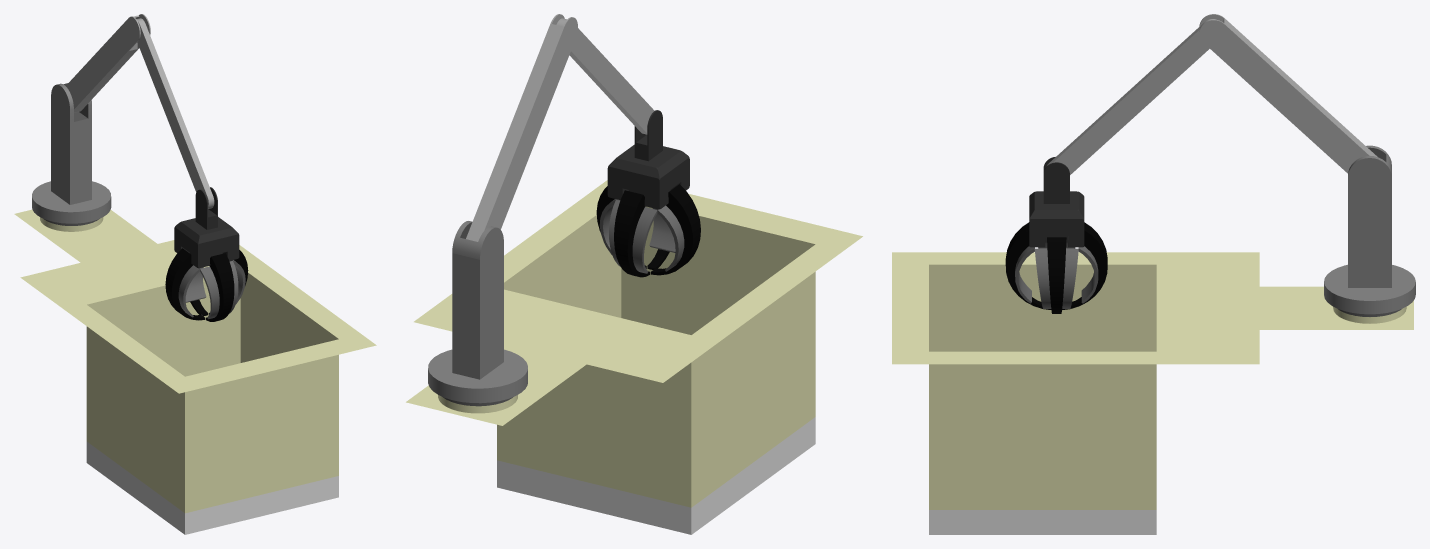
The model's file is excavator.glb.
The picture shows the model from 3 angles, left to right: view 1: azimuth 30°, elevation 25°; view 2: azimuth 150°, elevation 25°; view 3: azimuth 270°, elevation 25°; orthographic projection. The views are drawn at different scales.
Visible parts, largest first — view 1: base, rotating-platform, jaws, arm-rotating-platform, arm-jaws, jaw-2, jaw-4, jaw-3, jaw-1; view 2: base, rotating-platform, arm-rotating-platform, jaws, jaw-3, arm-jaws, jaw-4, jaw-2, jaw-1, rotating-platform-base; view 3: base, rotating-platform, arm-rotating-platform, arm-jaws, jaws, jaw-1, jaw-2, jaw-3.
Boxes of the visible parts, box(x1,y1,x2,y2) form: base: box(14, 209, 376, 534); rotating-platform: box(32, 83, 111, 225); jaws: box(174, 187, 239, 268); arm-rotating-platform: box(66, 14, 150, 112); arm-jaws: box(136, 18, 214, 208); jaw-2: box(200, 253, 238, 321); jaw-4: box(165, 248, 204, 320); jaw-3: box(185, 267, 207, 316); jaw-1: box(208, 250, 248, 314); base: box(406, 180, 862, 534); rotating-platform: box(428, 221, 527, 406); arm-rotating-platform: box(466, 14, 577, 241); jaws: box(607, 110, 689, 209); jaw-3: box(609, 190, 657, 277); arm-jaws: box(556, 18, 654, 134); jaw-4: box(651, 184, 700, 275); jaw-2: box(647, 208, 675, 269); jaw-1: box(596, 186, 646, 268); rotating-platform-base: box(438, 395, 517, 413); base: box(892, 252, 1413, 534); rotating-platform: box(1324, 145, 1415, 316); arm-rotating-platform: box(1199, 14, 1377, 173); arm-jaws: box(1046, 19, 1215, 174); jaws: box(1029, 157, 1084, 247); jaw-1: box(1034, 237, 1078, 313); jaw-2: box(1005, 222, 1051, 309); jaw-3: box(1062, 222, 1107, 309).
Bounding box in the file's own units: 0.36 × 0.7121 × 0.7125.
